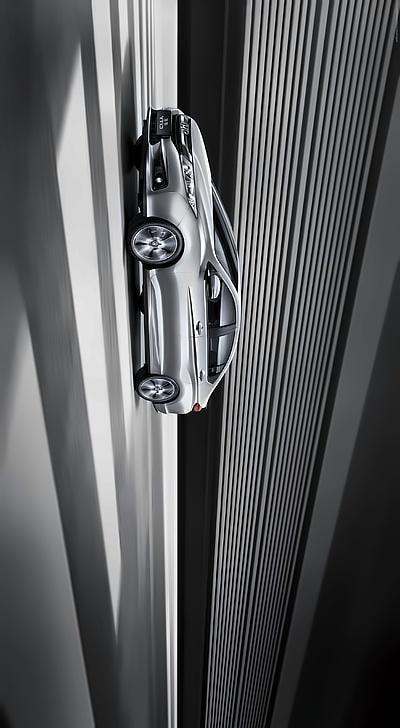Car hood: (187, 114, 213, 244)
Fender - -F-L-: (138, 209, 232, 277)
Fender - -R-L-: (145, 361, 221, 403)
Front bumper: (147, 102, 191, 233)
Headlight - -L-: (178, 152, 199, 222)
Passenger-s door - -F-L-: (146, 263, 242, 335)
Passenger-s door - -R-L-: (136, 325, 247, 385)
Rear bumper: (151, 385, 203, 417)
Rear light - -L-: (190, 401, 203, 415)
Side bumper - -L-: (142, 265, 171, 381)
Side mirror - -L-: (204, 272, 223, 306)
